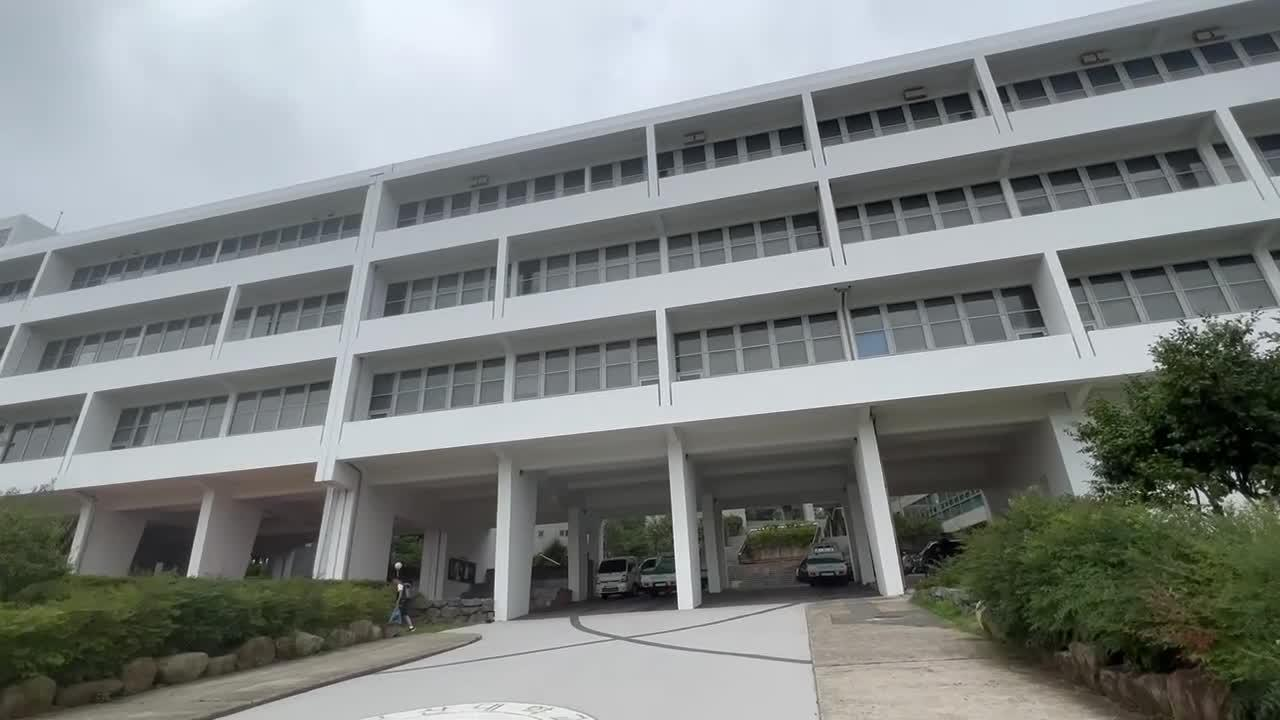building: (77, 77, 1069, 458)
